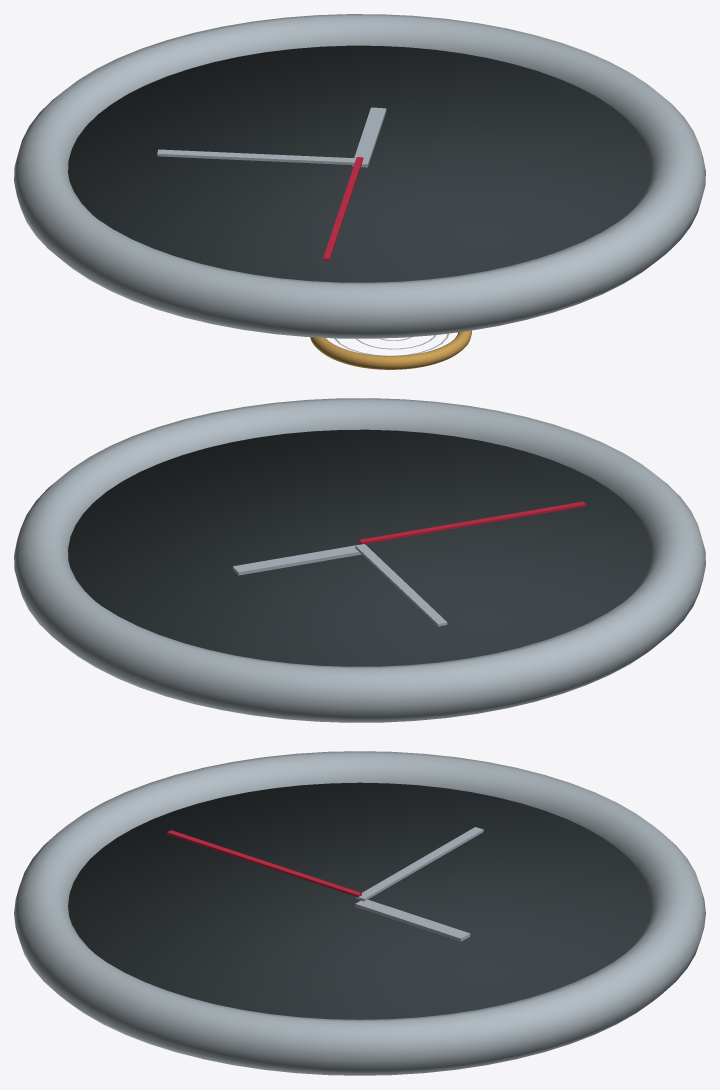
Rendered from watch-model.glb.
The picture shows the model from 3 angles, top to bottom: view 1: azimuth 30°, elevation 25°; view 2: azimuth 150°, elevation 25°; view 3: azimuth 270°, elevation 25°; orthographic projection.
Parts seen in each view (by area): view 1: dial, case, balance_wheel, minute_hand, hour_hand, gmt_hand; view 2: dial, case, hour_hand, gmt_hand, minute_hand; view 3: dial, case, hour_hand, minute_hand, gmt_hand.
Part boxes in pixels (left/top/right/bottom): dial: left=68, top=45, right=651, bottom=282; case: left=14, top=14, right=705, bottom=338; balance_wheel: left=310, top=330, right=471, bottom=369; minute_hand: left=157, top=149, right=355, bottom=164; hour_hand: left=352, top=107, right=386, bottom=167; gmt_hand: left=323, top=157, right=363, bottom=260; dial: left=68, top=429, right=651, bottom=666; case: left=14, top=398, right=705, bottom=722; hour_hand: left=232, top=545, right=361, bottom=575; gmt_hand: left=358, top=501, right=585, bottom=544; minute_hand: left=355, top=544, right=447, bottom=626; dial: left=68, top=782, right=651, bottom=1019; case: left=14, top=751, right=705, bottom=1075; hour_hand: left=355, top=899, right=470, bottom=941; minute_hand: left=355, top=827, right=483, bottom=901; gmt_hand: left=167, top=830, right=361, bottom=897.
Size of the model in its own units: 0.032 by 0.00593 by 0.032.
